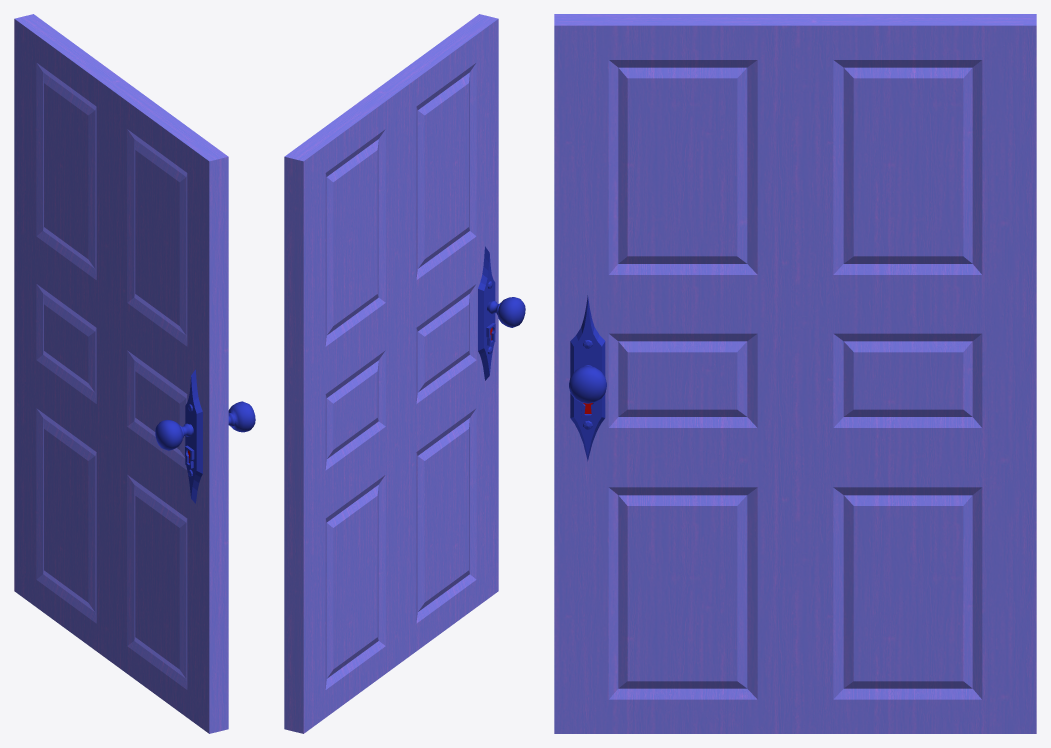
The model's file is door.obj.
The picture shows the model from 3 angles, left to right: view 1: azimuth 30°, elevation 25°; view 2: azimuth 150°, elevation 25°; view 3: azimuth 270°, elevation 25°; orthographic projection. The views are drawn at different scales.
Visible parts, largest first — view 1: Cylinder; view 2: Cylinder; view 3: Cylinder.
Part boxes in pixels (x1=…): Cylinder: x1=14, y1=14, x2=255, y2=733; Cylinder: x1=284, y1=14, x2=525, y2=733; Cylinder: x1=554, y1=14, x2=1036, y2=733.
Size of the model in its own units: 0.393 by 2.27 by 1.4.
